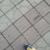zebra: (1, 2, 50, 46)
